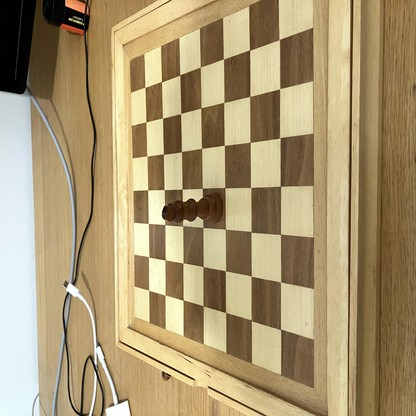king_black: (162, 196, 223, 224)
